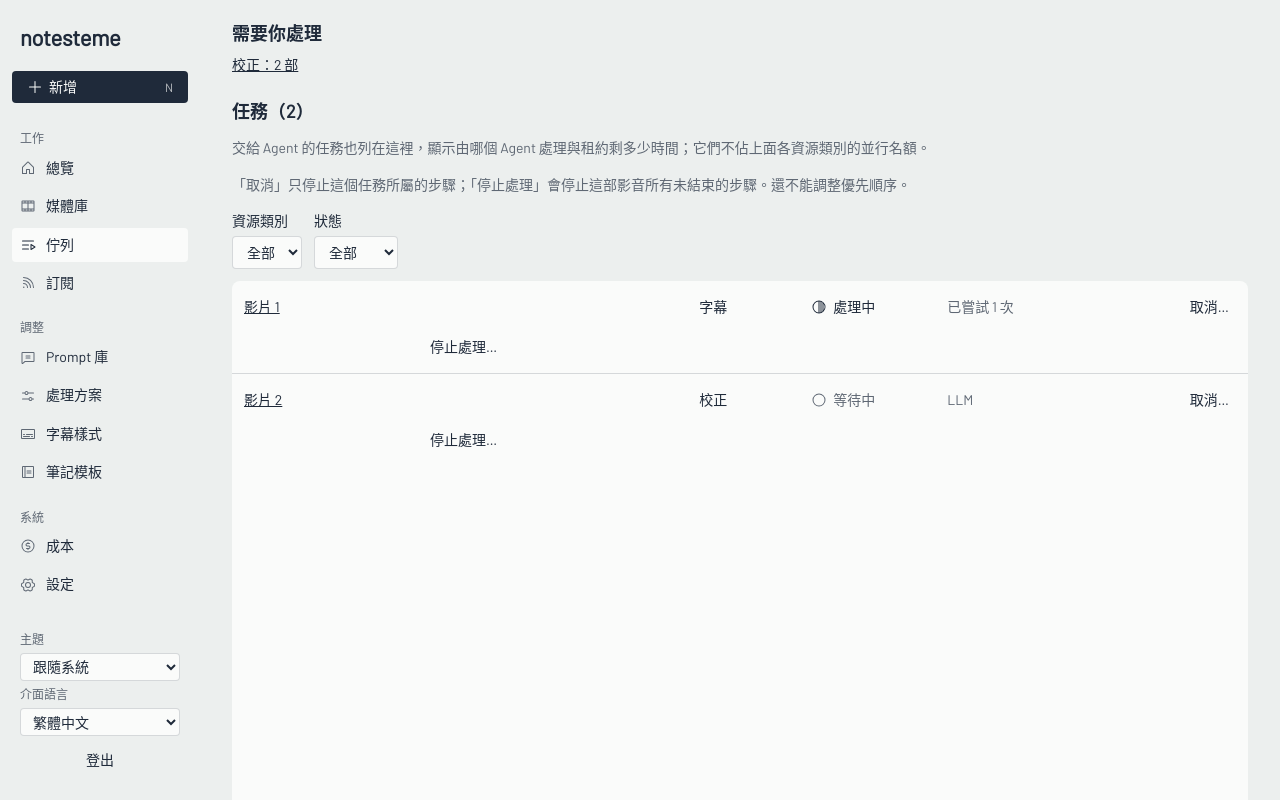
Test case: 佇列：任務 › 「取消…」只取消這個任務所屬的步驟：確認後 POST /api/tasks/{id}/cancel
(page scrolled)
Click the button "取消…" in the row of "等待中". click: (1209, 400)
box: [1183, 384, 1236, 416]
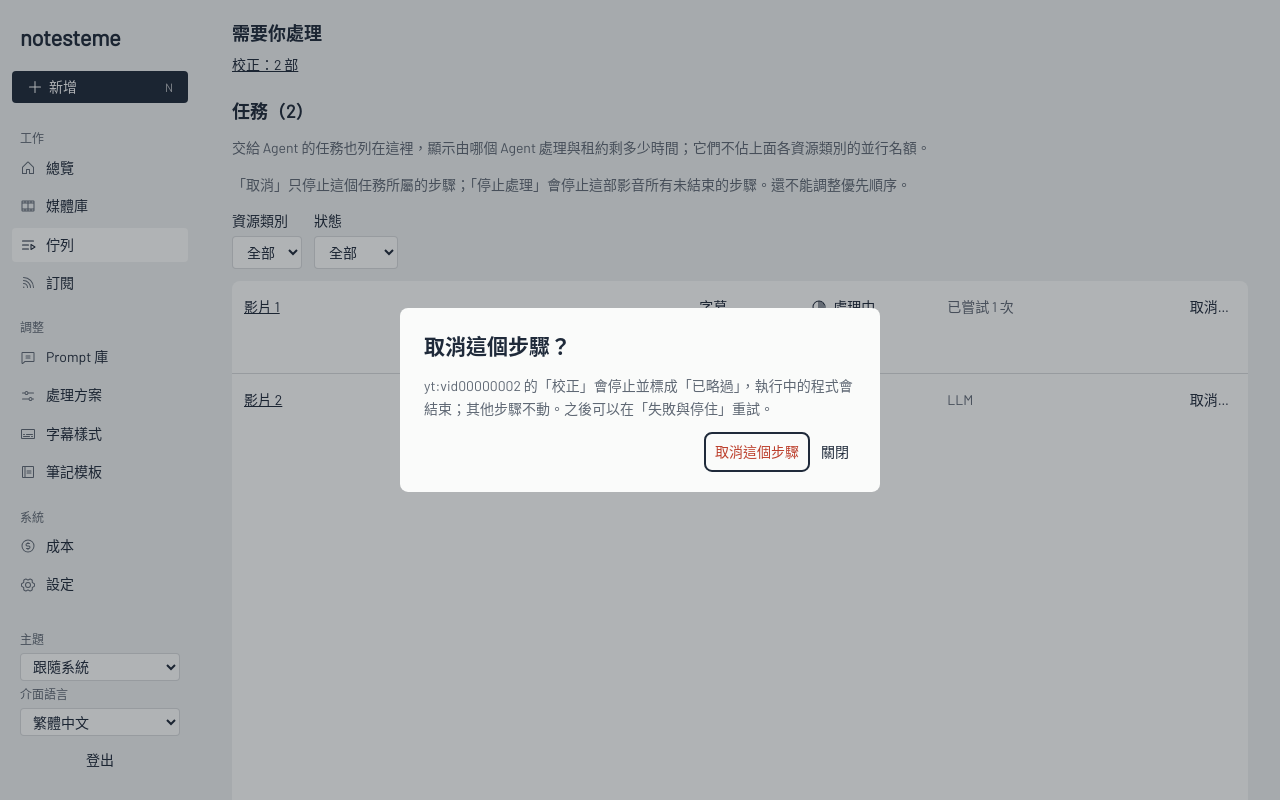
expect the text "其他步驟不動" is shown: met, box [424, 377, 853, 417]
Click the button "取消這個步驟". click: (757, 452)
box: [708, 436, 806, 468]
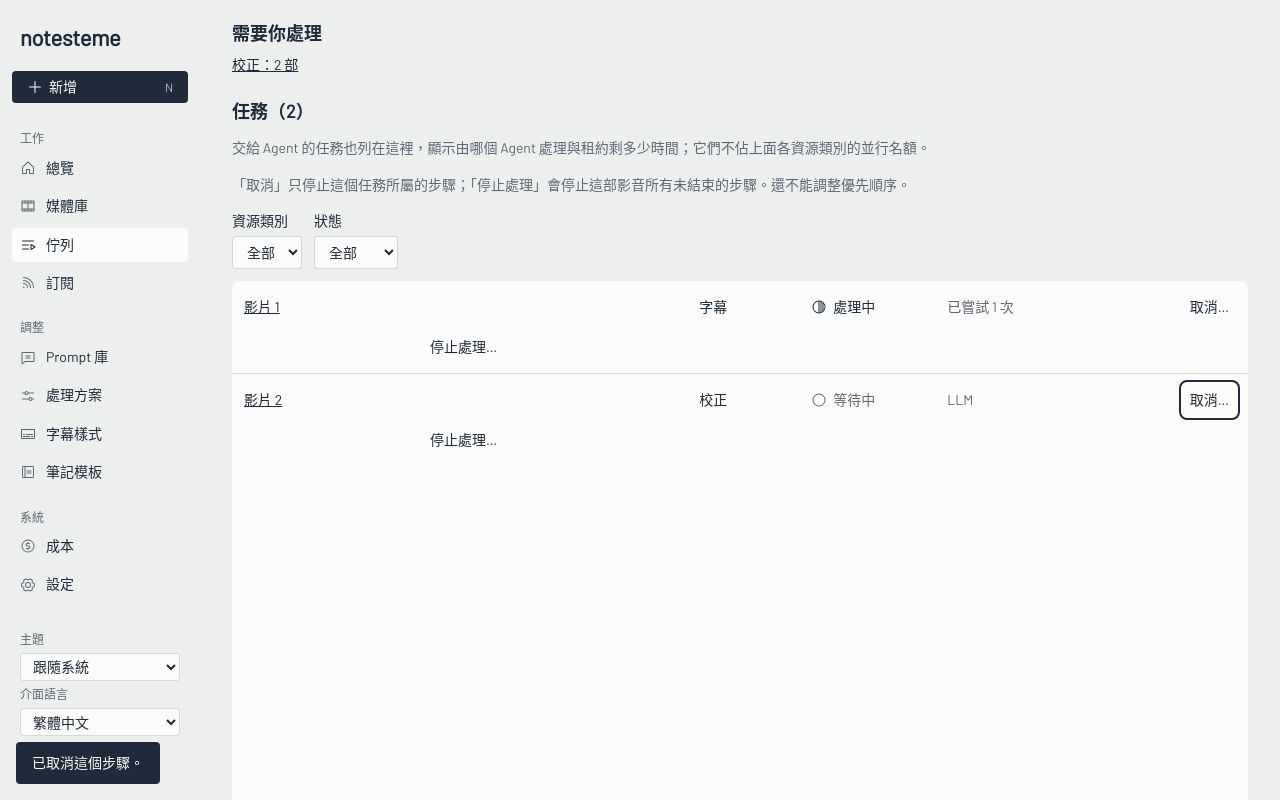
expect the text "已取消這個步驟。" is shown: met, box [32, 752, 144, 774]
